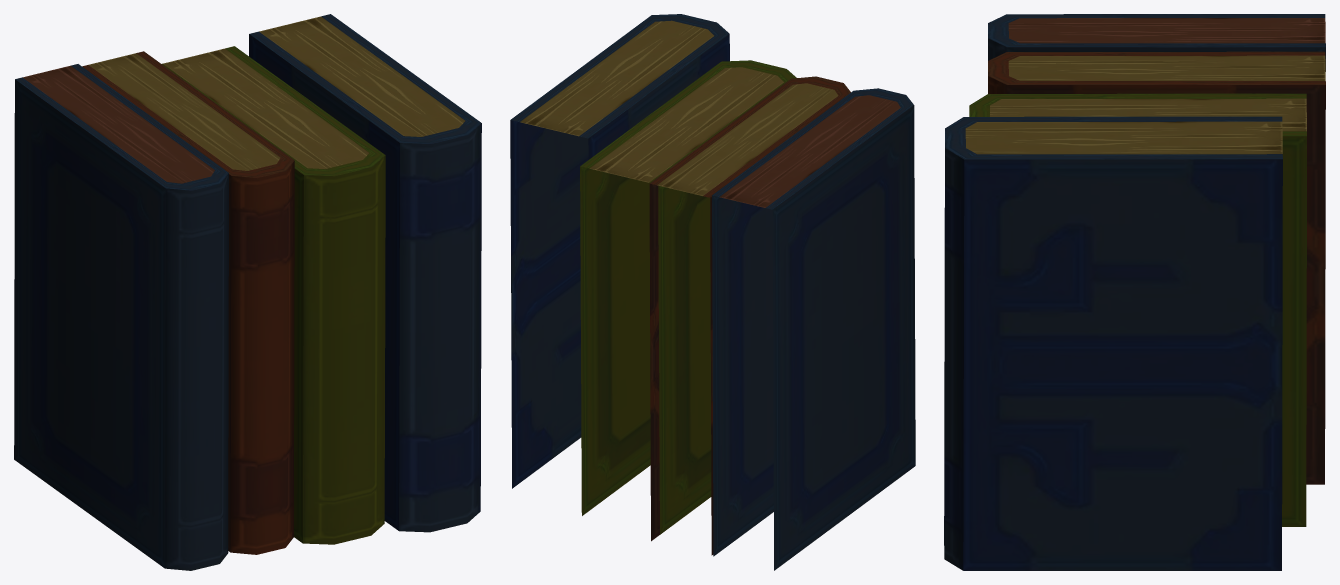
File: BookGroup_Small_2.glb
3 renders of one model, left to right at view 1: azimuth 30°, elevation 25°; view 2: azimuth 150°, elevation 25°; view 3: azimuth 270°, elevation 25°, orthographic. The views are drawn at different scales.
Parts seen in each view (by area): view 1: BookGroup_Small_2; view 2: BookGroup_Small_2; view 3: BookGroup_Small_2.
Boxes of the visible parts, x1,y1,x2,y2 form: BookGroup_Small_2: (14,14,481,570); BookGroup_Small_2: (510,14,915,570); BookGroup_Small_2: (944,14,1325,570).
Bounding box in the file's own units: 0.2275 × 0.2831 × 0.2373.
Materials: 1 (1 with a texture image).
